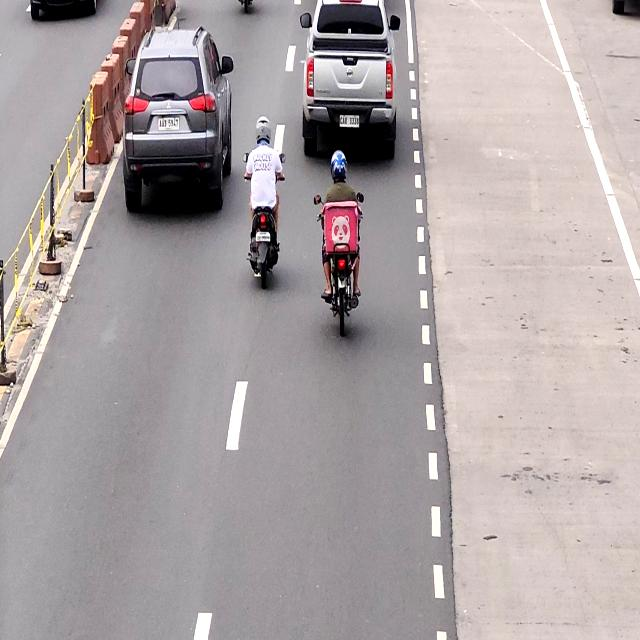Car: (125, 28, 228, 209), (303, 0, 393, 143)
License-Plate: (337, 112, 360, 130), (155, 117, 180, 131)
Motorcycle: (324, 153, 362, 336), (247, 120, 278, 290)
